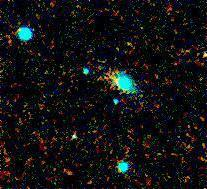star: (111, 31, 141, 61)
